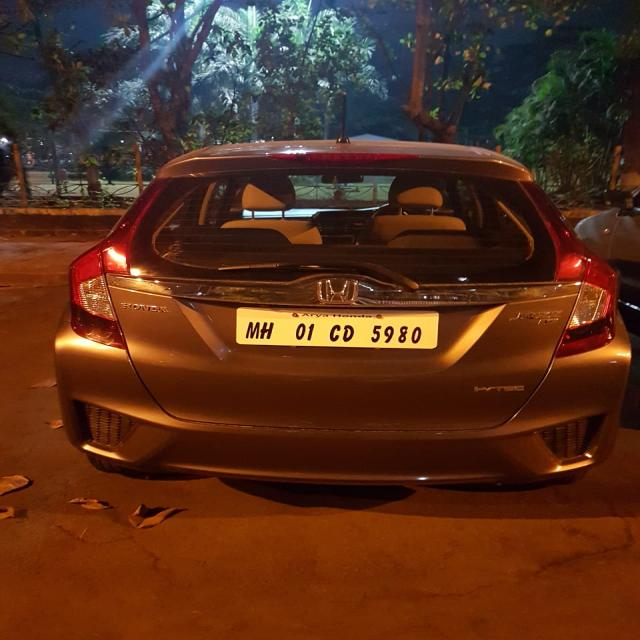Number-Plate: (238, 309, 432, 345)
